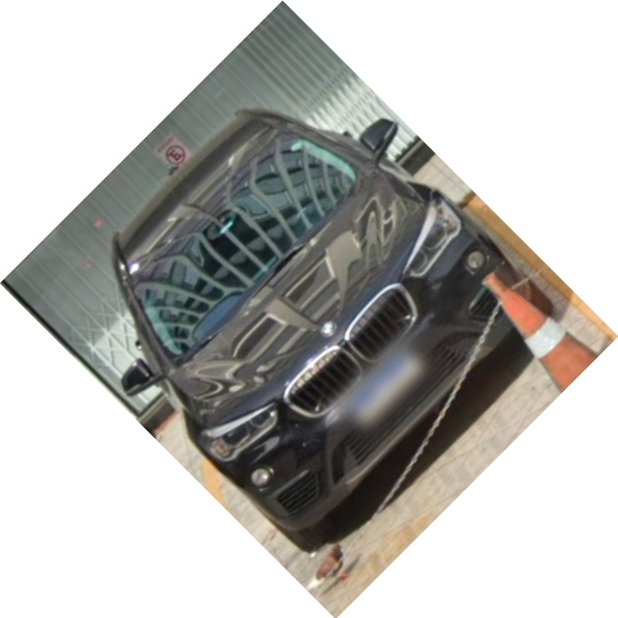car: (109, 105, 554, 555)
